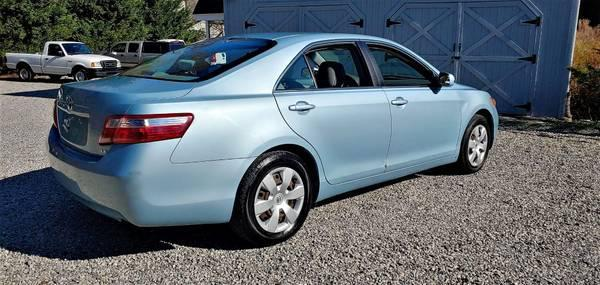Front_Fender: (456, 87, 498, 150)
Front_Right_Door: (382, 88, 461, 185)
Front_Right_Window: (358, 40, 452, 91)
Rear_Bumper: (47, 122, 253, 224)
Rear_Fender: (125, 94, 288, 163)
Rear_Right_Door: (275, 90, 393, 202)
Rear_Right_Window: (268, 40, 381, 95)
Rear_Windshield: (117, 37, 274, 83)
Right_Taillight: (99, 111, 194, 143)
Roof: (181, 30, 448, 98)
Tailgate: (54, 73, 195, 155)
Wheel: (237, 152, 311, 244), (459, 117, 491, 174)
